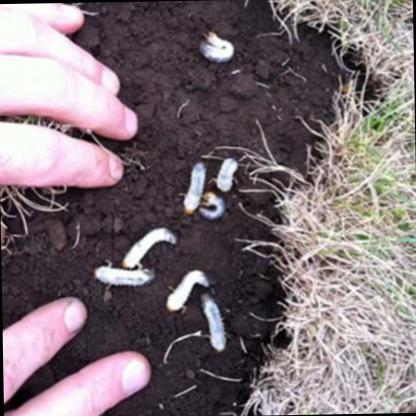root grubs: (121, 229, 172, 271), (166, 272, 204, 310), (201, 296, 225, 349)
